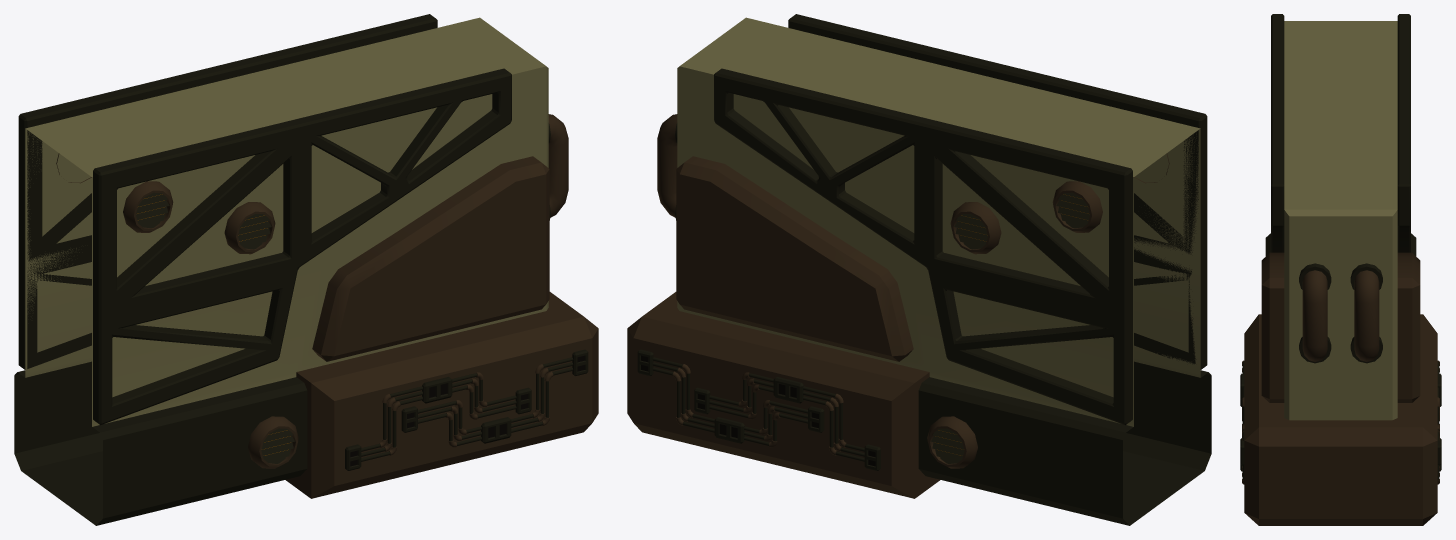
The model's file is OBJ_Corniche.fbx.
3 renders of one model, left to right at view 1: azimuth 30°, elevation 25°; view 2: azimuth 150°, elevation 25°; view 3: azimuth 270°, elevation 25°, orthographic. The views are drawn at different scales.
Visible parts, largest first — view 1: OBJ_Corniche_002; view 2: OBJ_Corniche_002; view 3: OBJ_Corniche_002.
Part boxes in pixels (x1,y1,x2,y2): OBJ_Corniche_002: [14, 14, 598, 525]; OBJ_Corniche_002: [627, 14, 1211, 525]; OBJ_Corniche_002: [1240, 14, 1441, 525].
Bounding box in the file's own units: 5790 × 4150 × 2406.
